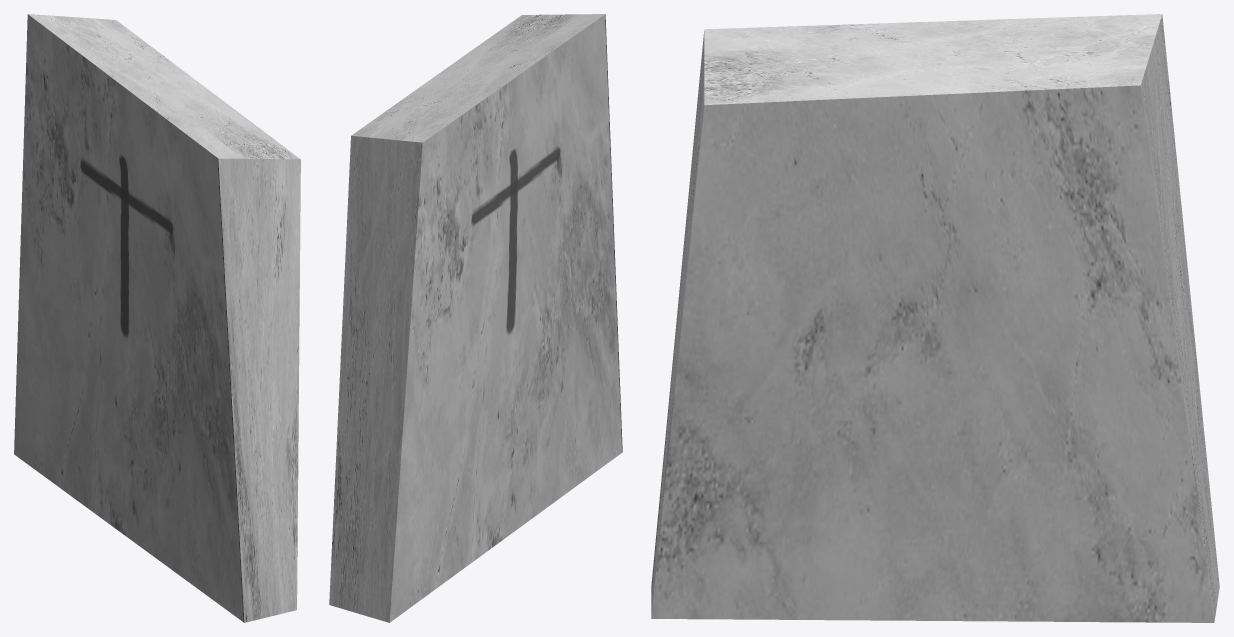
Rendered from headstone.glb.
3 renders of one model, left to right at view 1: azimuth 30°, elevation 25°; view 2: azimuth 150°, elevation 25°; view 3: azimuth 270°, elevation 25°, orthographic. The views are drawn at different scales.
Visible parts, largest first — view 1: Cube; view 2: Cube; view 3: Cube.
Boxes of the visible parts, x1,y1,x2,y2 form: Cube: (14,14,300,622); Cube: (329,14,622,622); Cube: (651,14,1219,622).
Bounding box in the file's own units: 0.44 × 2.2 × 2.
1 material, 1 textured.
